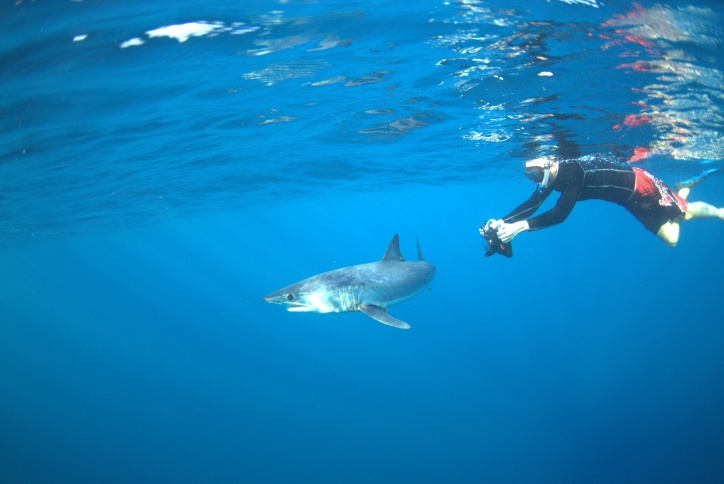Mako: (259, 228, 450, 339)
